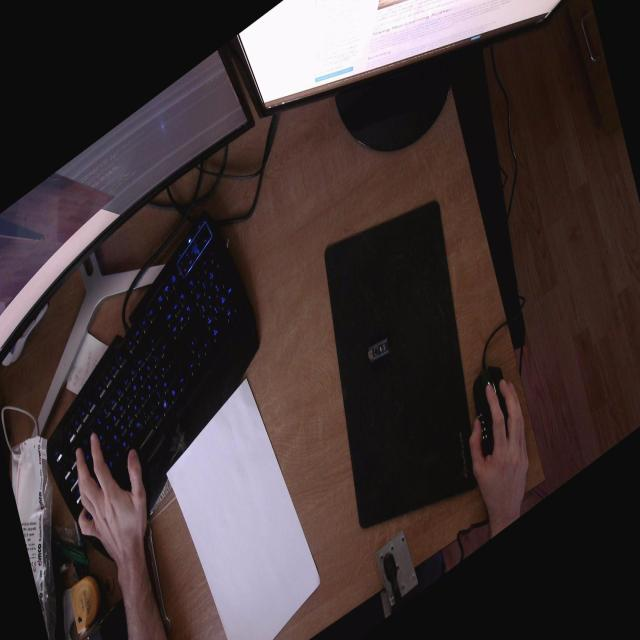keyboard-with-hands: (45, 209, 266, 571)
